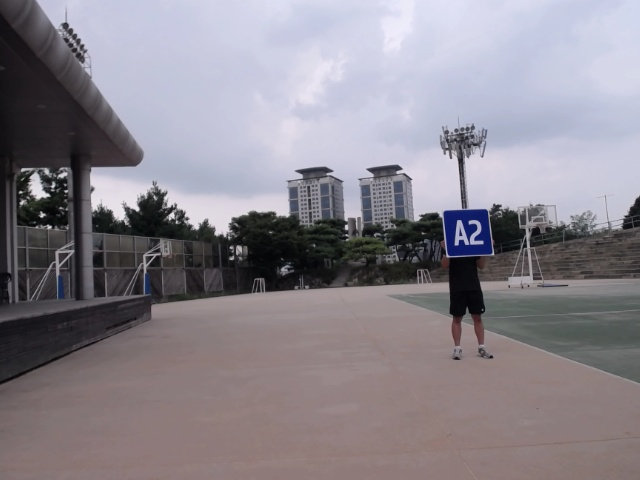delivery_a2: (444, 209, 493, 257)
